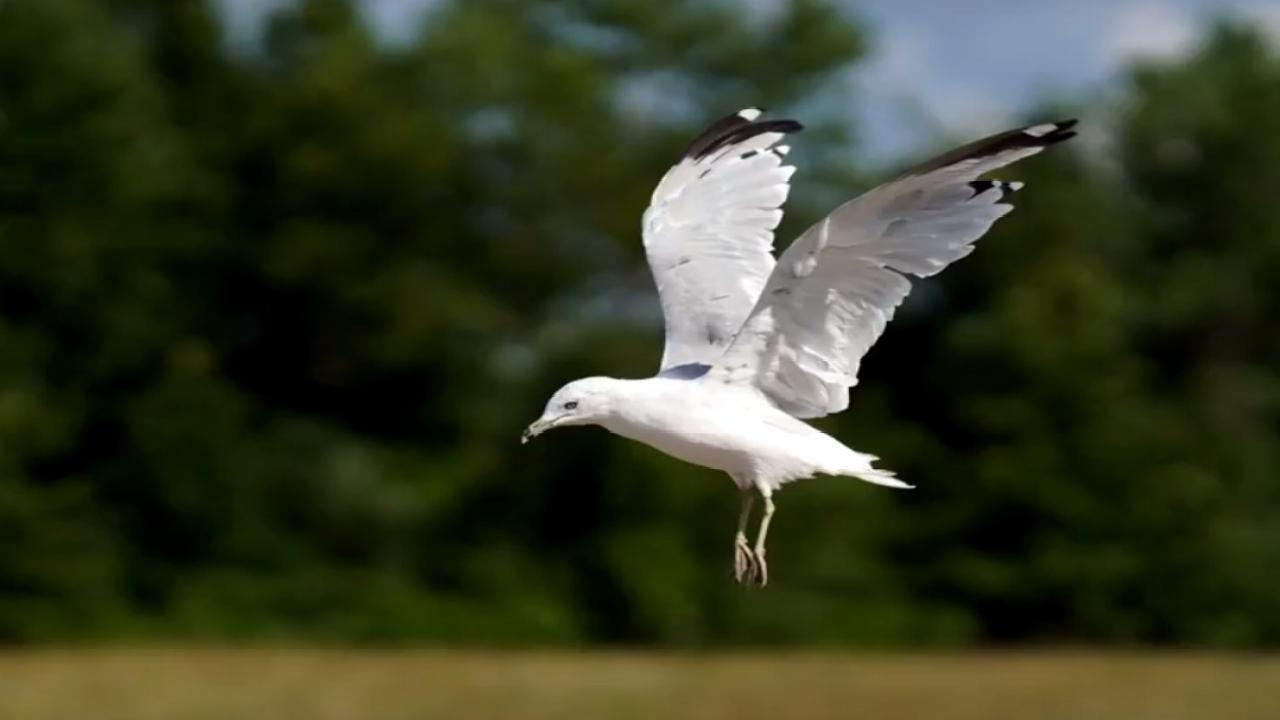Bird: (509, 93, 1090, 591)
